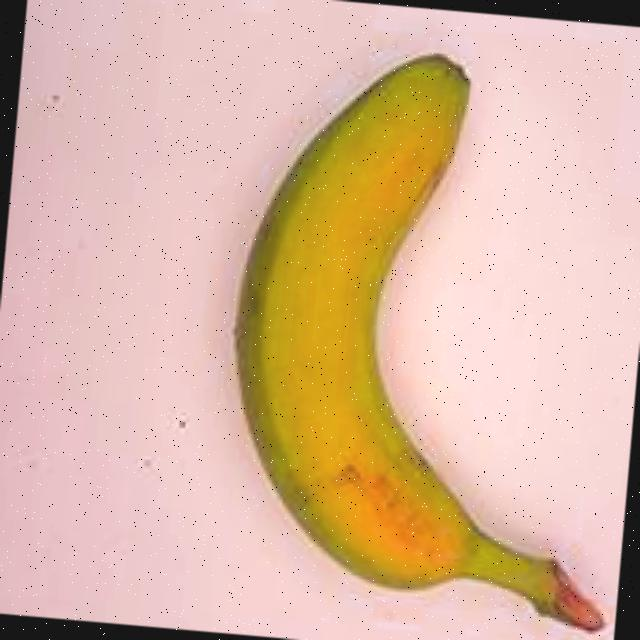Unripe: (165, 15, 640, 640)
